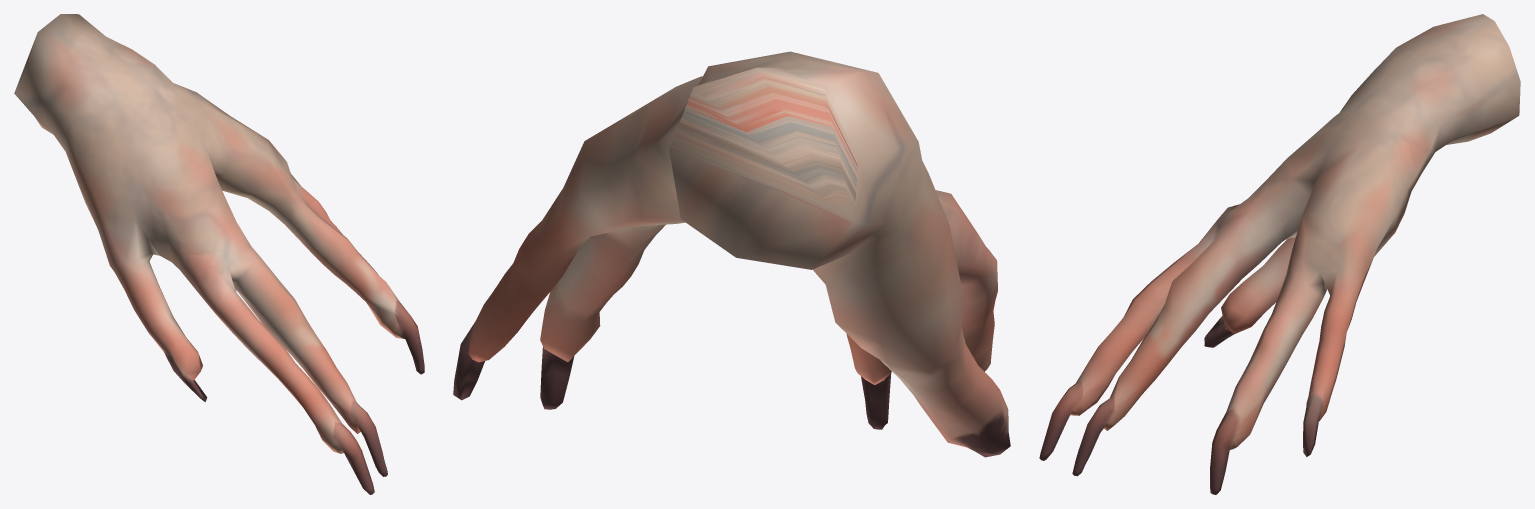
The model's file is HandL.fbx.
The picture shows the model from 3 angles, left to right: view 1: azimuth 30°, elevation 25°; view 2: azimuth 150°, elevation 25°; view 3: azimuth 270°, elevation 25°; orthographic projection. The views are drawn at different scales.
Parts seen in each view (by area): view 1: UmeriCraci_low.001; view 2: UmeriCraci_low.001; view 3: UmeriCraci_low.001.
Part boxes in pixels (bbox=[...]): UmeriCraci_low.001: bbox=[14, 14, 424, 494]; UmeriCraci_low.001: bbox=[453, 51, 1010, 457]; UmeriCraci_low.001: bbox=[1039, 14, 1520, 494].
Size of the model in its own units: 34.51 by 41.11 by 46.6.
